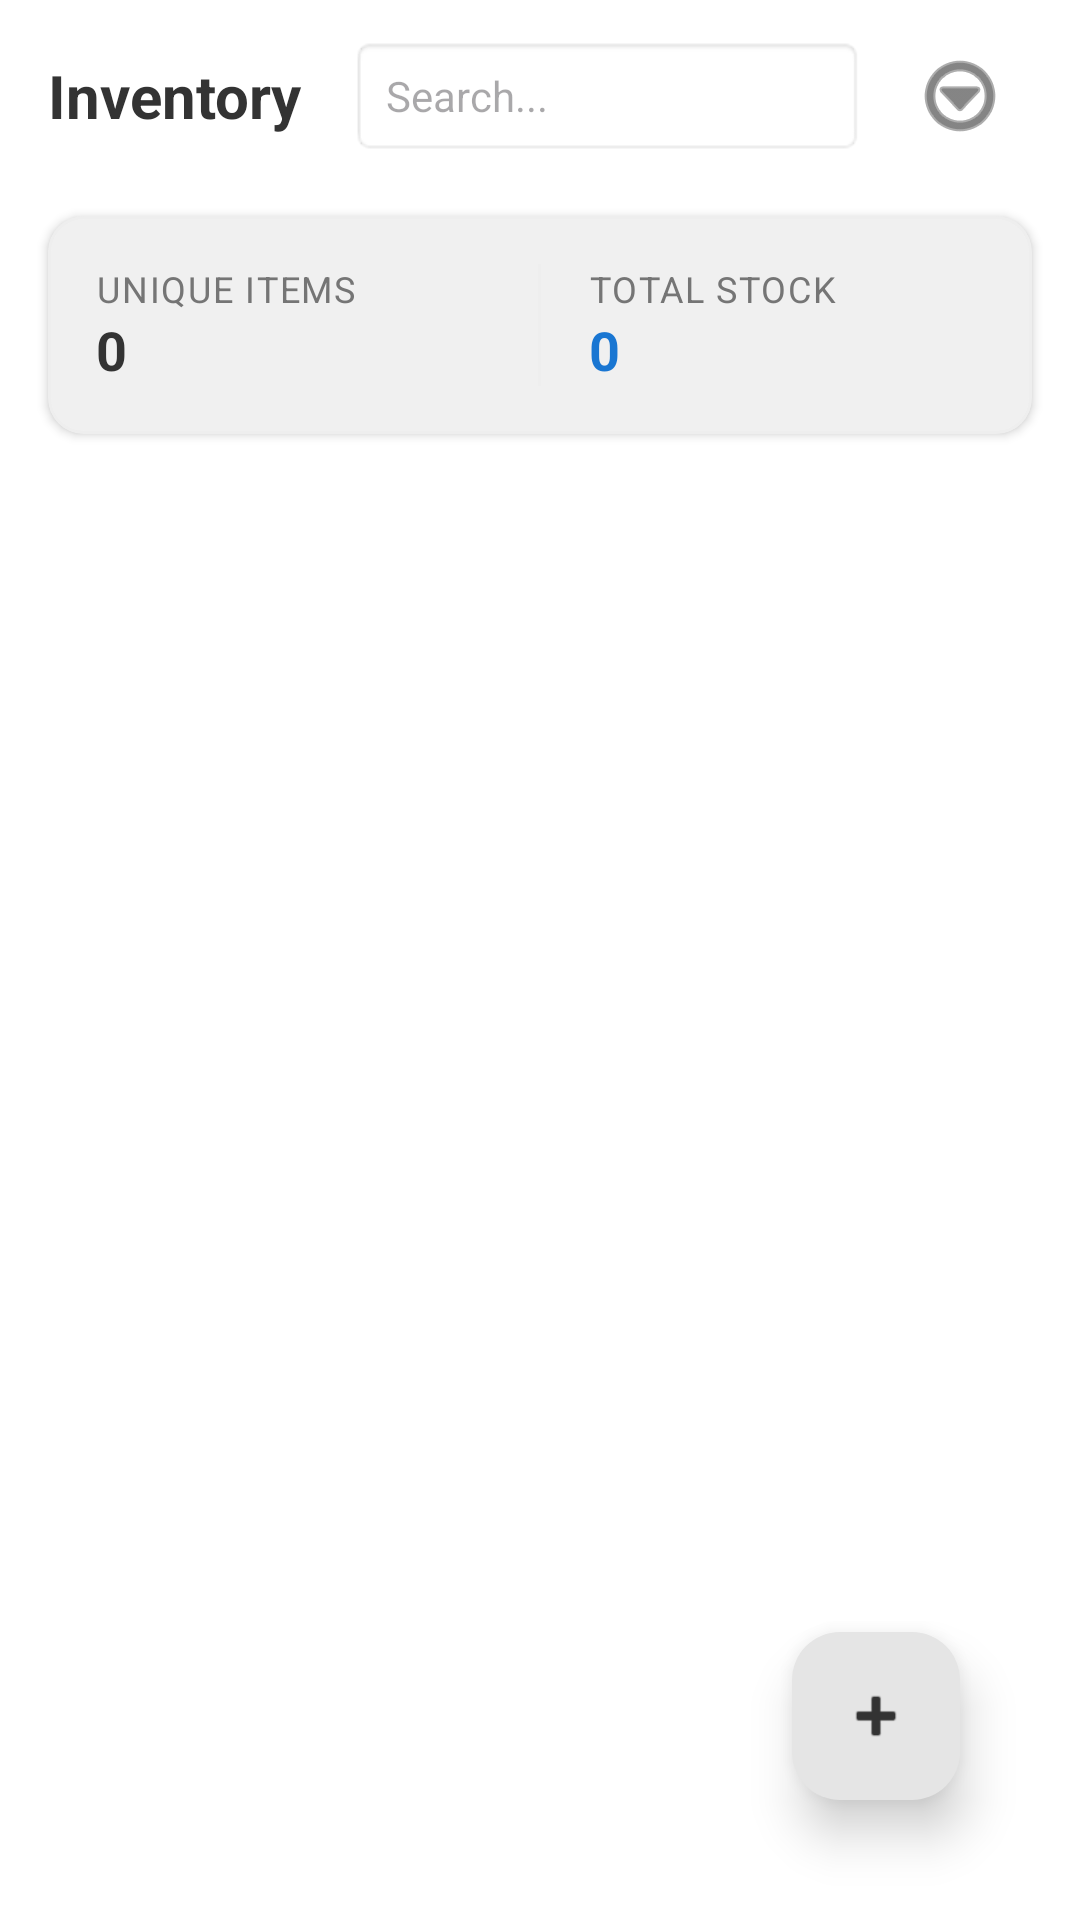

Icon click points for this 1080px×1920px phone screenshot, format (x=x, y=y):
add: (x=876, y=1716)
more: (x=960, y=96)
